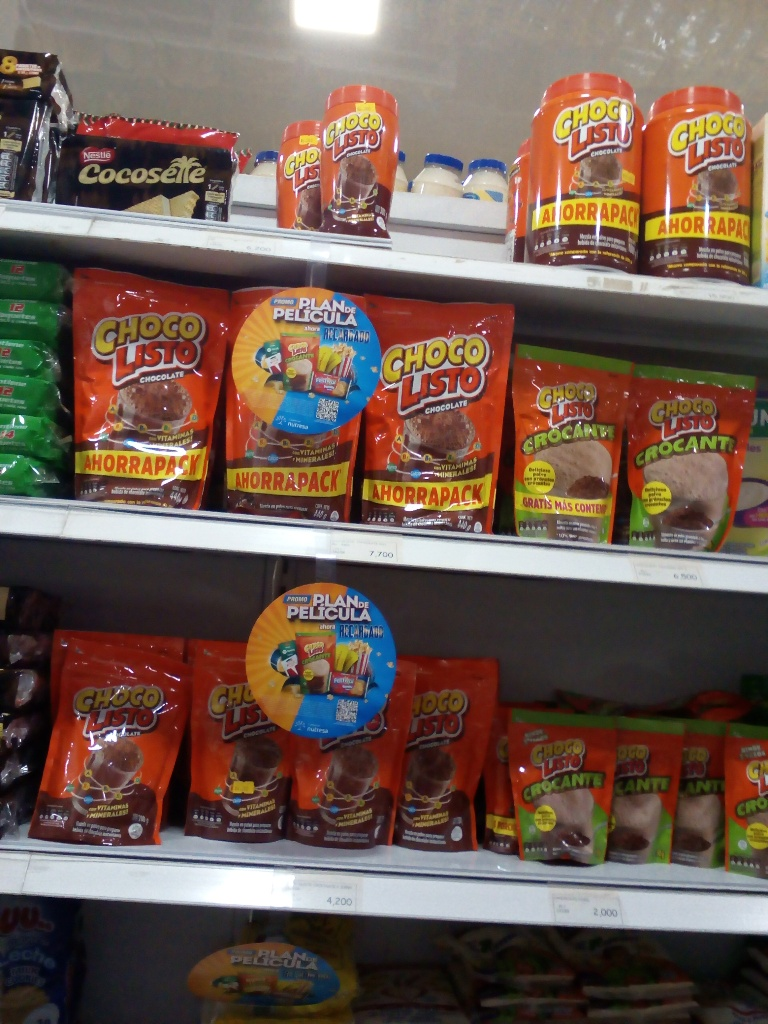COL0170102DYP10000: (507, 712, 613, 876)
COL0170102DYP25000: (630, 336, 751, 544)
COL0170103DYP20000: (44, 631, 177, 846)
COL0170103DYP44000: (79, 266, 219, 510)
COL0170103TRR00100: (521, 64, 648, 267)
COL0170103TRR30000: (323, 77, 404, 246)
